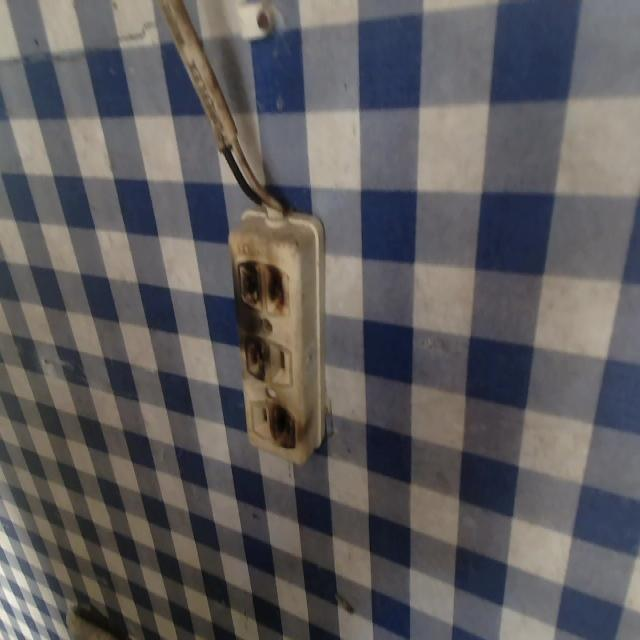-: (231, 256, 291, 316), (266, 396, 312, 464), (234, 331, 276, 392)
